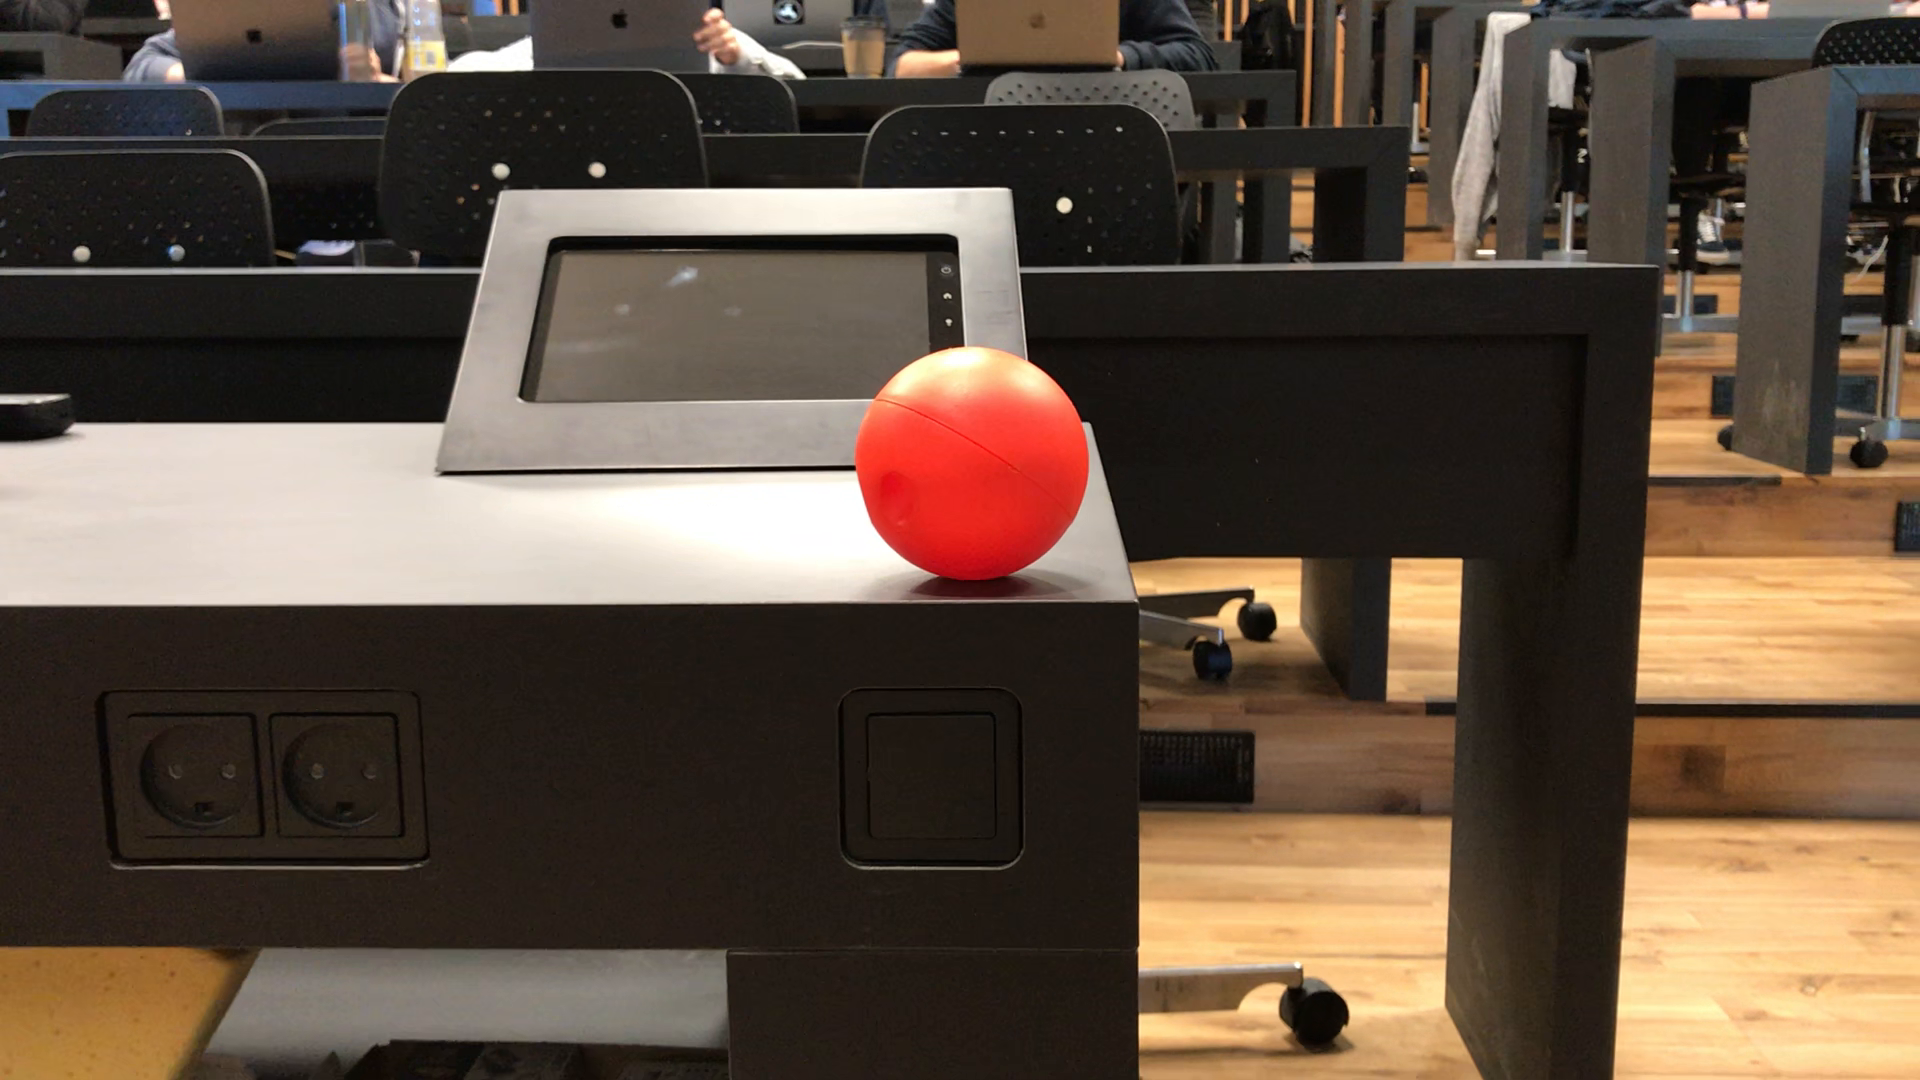Ball: (857, 349, 1088, 580)
